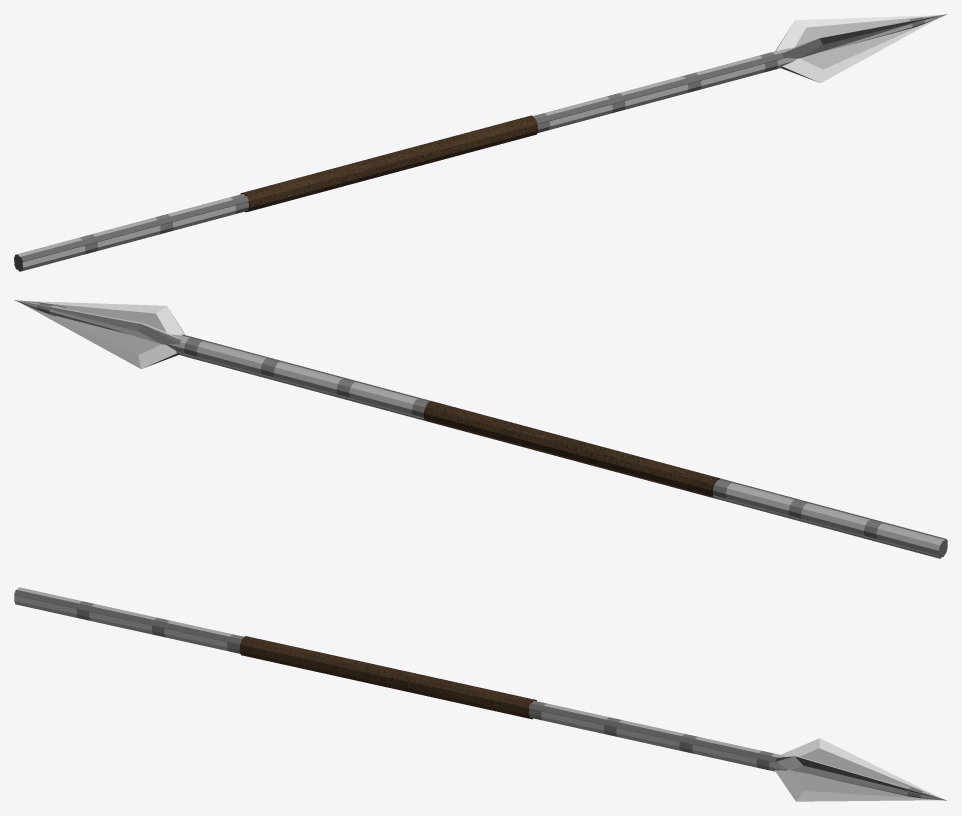
File: WorldItem_RebarSpear.fbx
The picture shows the model from 3 angles, top to bottom: view 1: azimuth 30°, elevation 25°; view 2: azimuth 150°, elevation 25°; view 3: azimuth 330°, elevation 25°; orthographic projection.
Parts seen in each view (by area): view 1: ZomboidRebarSpear; view 2: ZomboidRebarSpear; view 3: ZomboidRebarSpear.
Boxes of the visible parts, bbox=[...] form: ZomboidRebarSpear: bbox=[14, 14, 946, 271]; ZomboidRebarSpear: bbox=[14, 300, 947, 558]; ZomboidRebarSpear: bbox=[14, 587, 946, 801].
Bounding box in the file's own units: 0.911 × 0.0466 × 0.0425.
